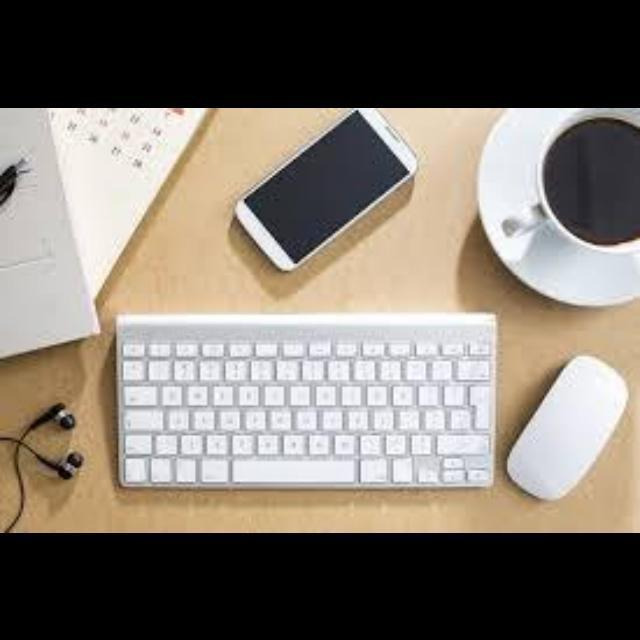phone: (244, 112, 407, 264)
